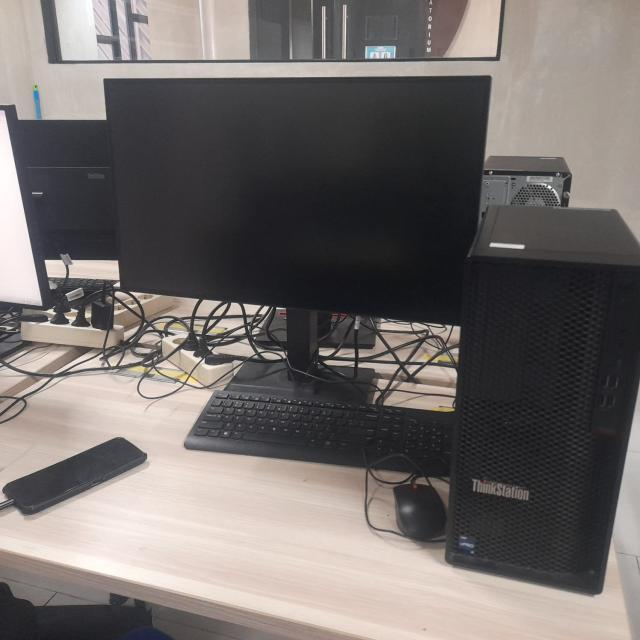keyboard: (184, 391, 456, 478)
monitor: (103, 75, 493, 404), (16, 120, 118, 260), (0, 104, 53, 358)
mouse: (392, 484, 447, 539)
pc: (445, 204, 640, 596), (479, 156, 573, 226)
